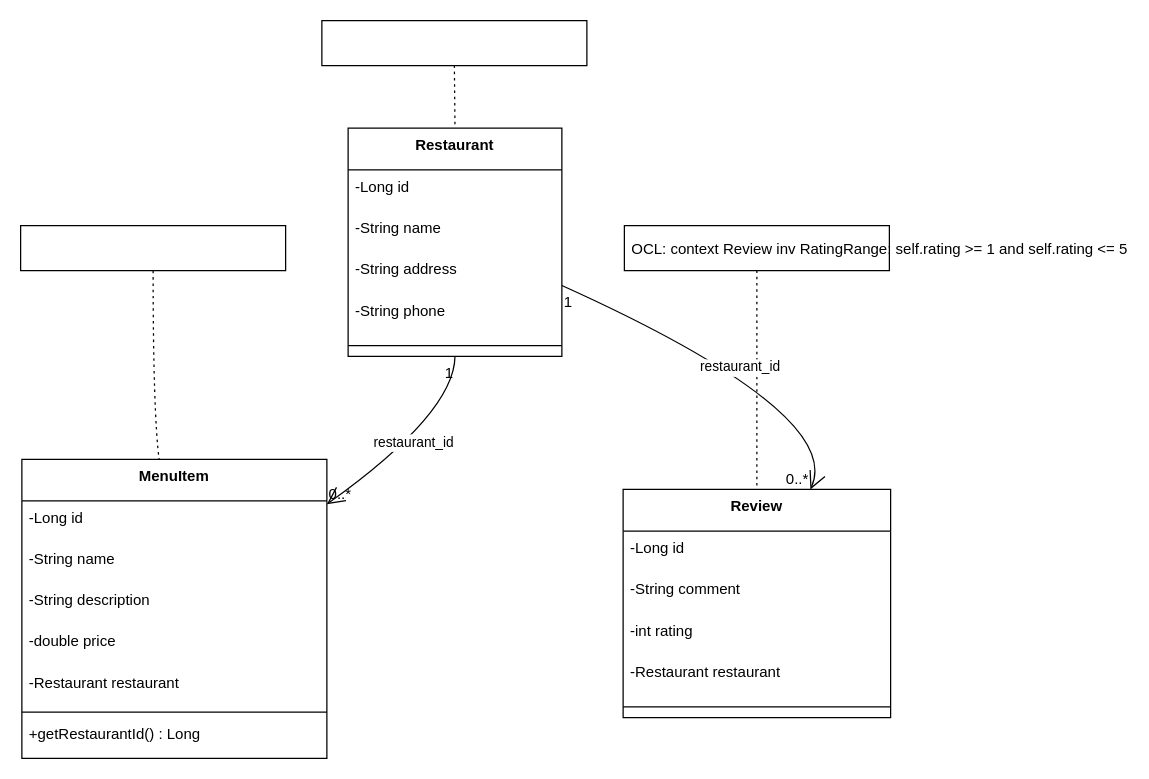
Image size: 1149x779. Some labels were removed from this diagram. The shapes that lost their labels are listed below. From the top down, each one's centre as x and y in pixels, then its label:
At pixel 454 42: "OCL: context Restaurant inv MustHaveName: self.name->notEmpty()".
At pixel 152 247: "OCL: context MenuItem inv PriceMustBePositive: self.price > 0".
